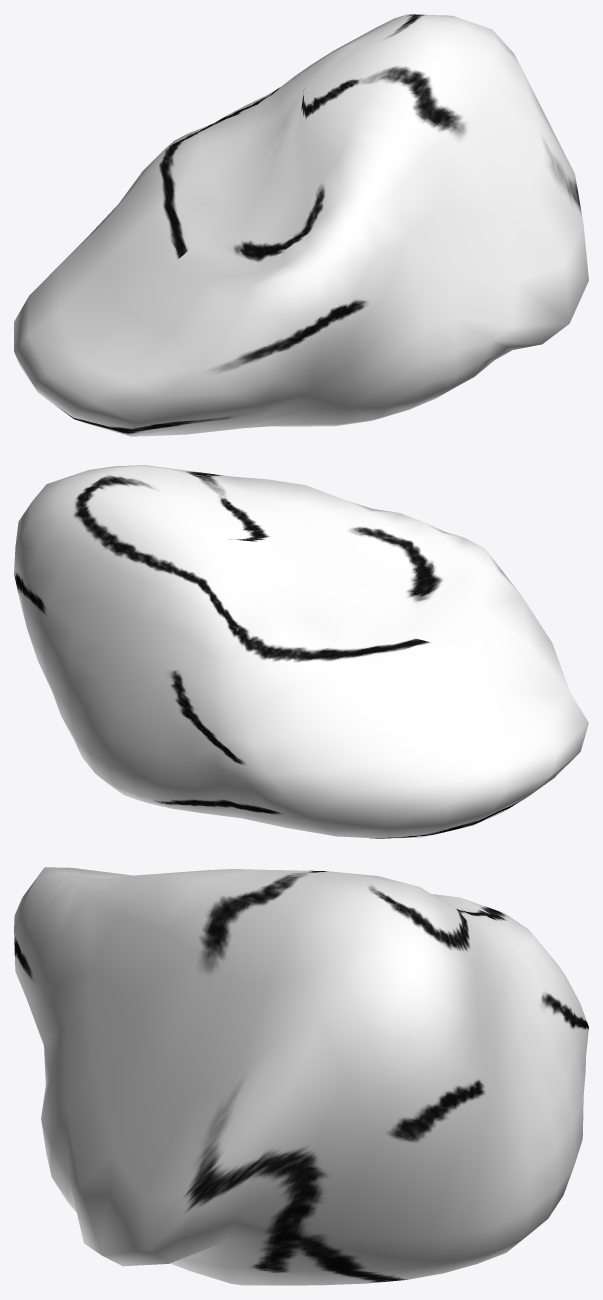
Rendered from rock3.obj.
3 renders of one model, top to bottom at view 1: azimuth 30°, elevation 25°; view 2: azimuth 150°, elevation 25°; view 3: azimuth 270°, elevation 25°, orthographic. The views are drawn at different scales.
Parts seen in each view (by area): view 1: Sphere.002; view 2: Sphere.002; view 3: Sphere.002.
Boxes of the visible parts, x1,y1,x2,y2 form: Sphere.002: (14,14,588,436); Sphere.002: (14,465,588,838); Sphere.002: (14,867,588,1285).
Bounding box in the file's own units: 0.5571 × 0.3241 × 0.3944.
